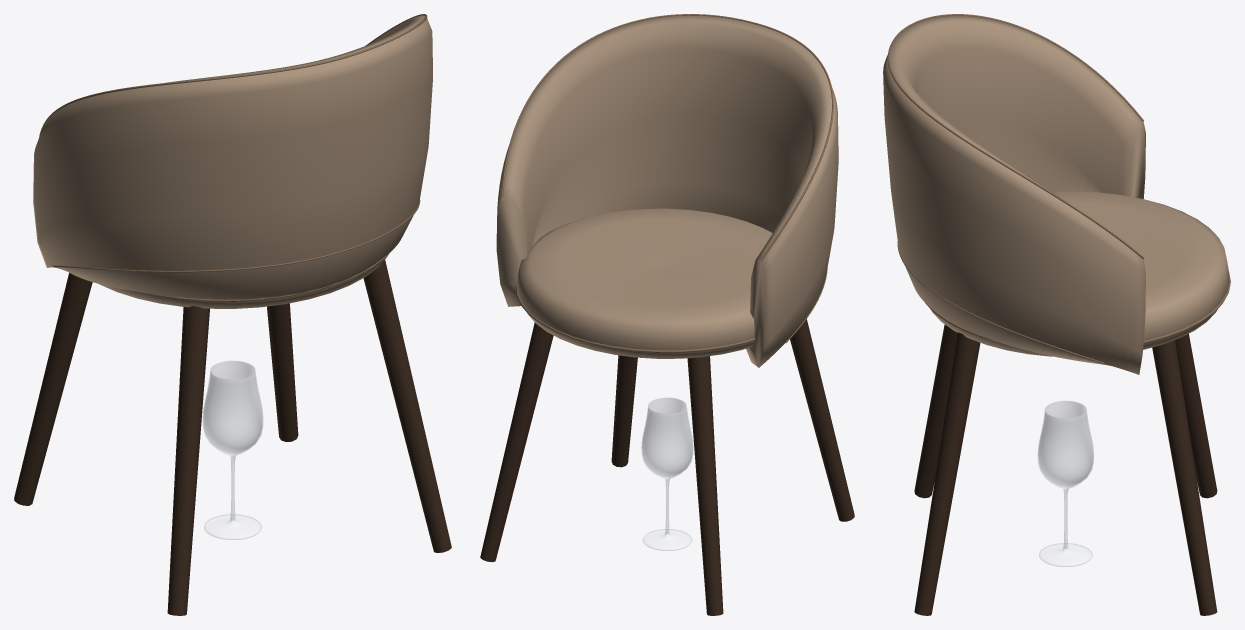
Rendered from table-furniture.glb.
The picture shows the model from 3 angles, left to right: view 1: azimuth 30°, elevation 25°; view 2: azimuth 150°, elevation 25°; view 3: azimuth 270°, elevation 25°; orthographic projection. The views are drawn at different scales.
Parts seen in each view (by area): view 1: Wraparound upholstery, Cone, Cone.002, Crystal bowl, stem and foot, Cone.001, Cone.003, Seat cushion, Upper piping, Low back seam, Cushion seam; view 2: Wraparound upholstery, Seat cushion, Cone.001, Cone.003, Crystal bowl, stem and foot, Cone, Cone.002, Upper piping, Cushion seam; view 3: Wraparound upholstery, Seat cushion, Cone.002, Cone.003, Crystal bowl, stem and foot, Cone, Cone.001, Upper piping, Cushion seam, Low back seam.
Part boxes in pixels (x1,y1,x2,y2): Wraparound upholstery: (33, 15, 432, 299); Cone: (167, 306, 209, 615); Cone.002: (363, 259, 451, 552); Crystal bowl, stem and foot: (202, 360, 263, 539); Cone.001: (14, 273, 92, 505); Cone.003: (267, 303, 298, 441); Seat cushion: (99, 255, 387, 308); Upper piping: (39, 14, 427, 136); Low back seam: (53, 200, 420, 272); Cushion seam: (135, 252, 390, 301); Wraparound upholstery: (496, 15, 838, 367); Seat cushion: (517, 208, 772, 358); Cone.001: (687, 356, 723, 615); Cone.003: (480, 322, 553, 562); Crystal bowl, stem and foot: (641, 397, 693, 550); Cone: (790, 319, 854, 521); Cone.002: (611, 355, 637, 467); Upper piping: (501, 14, 833, 261); Cushion seam: (516, 282, 755, 352); Wraparound upholstery: (883, 15, 1145, 374); Seat cushion: (930, 191, 1229, 356); Cone.002: (914, 332, 980, 615); Cone.003: (1152, 340, 1217, 615); Crystal bowl, stem and foot: (1037, 400, 1093, 566); Cone: (914, 324, 957, 498); Cone.001: (1175, 333, 1217, 498); Upper piping: (887, 14, 1144, 258); Cushion seam: (925, 272, 1230, 343); Low back seam: (897, 242, 1103, 363).
Size of the model in its own units: 0.542 by 0.7976 by 0.5042.
